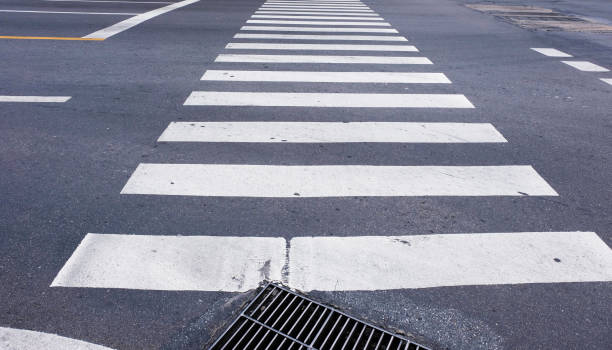zebracross: (182, 1, 486, 286)
